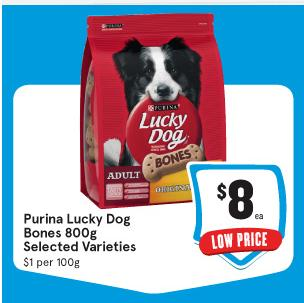description_block: (17, 207, 149, 256)
price_main: (189, 160, 286, 228)
product_image_block: (77, 7, 230, 210)
promo_text_block: (184, 222, 289, 252)
unit_price_block: (20, 252, 85, 274)
